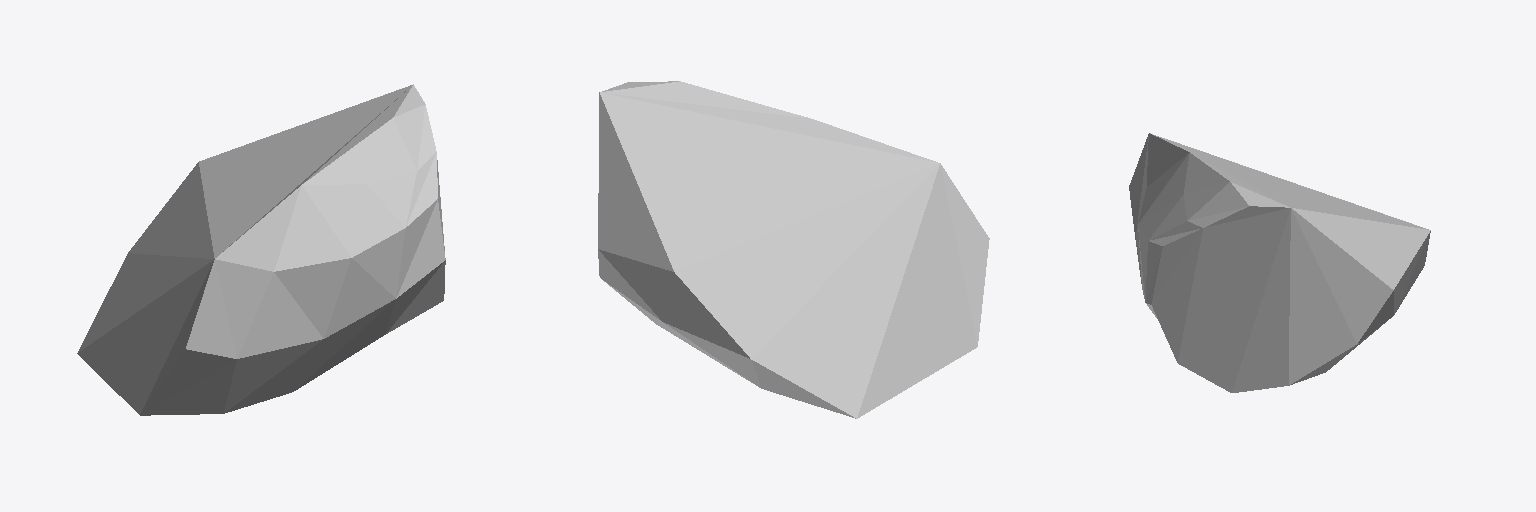
Rendered from thumb1.obj.
3 views of the same model, side by side, from view 1: azimuth 30°, elevation 25°; view 2: azimuth 150°, elevation 25°; view 3: azimuth 270°, elevation 25° (orthographic).
Size of the model in its own units: 51.13 by 38.67 by 41.02.